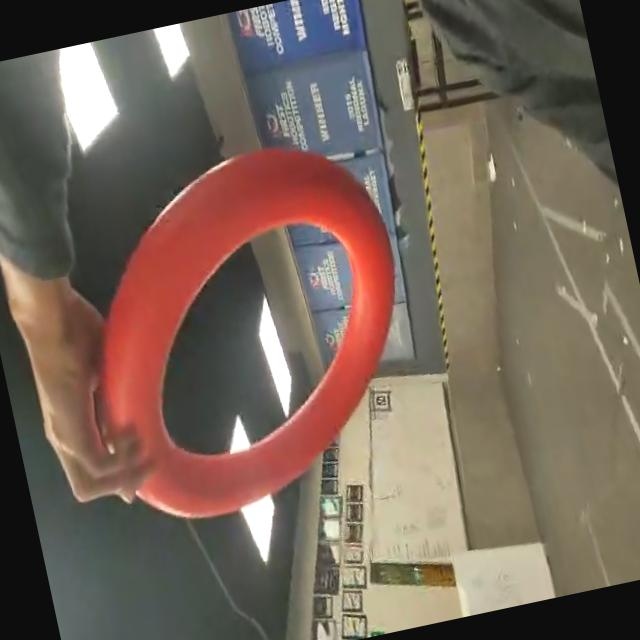note: (50, 116, 441, 534)
